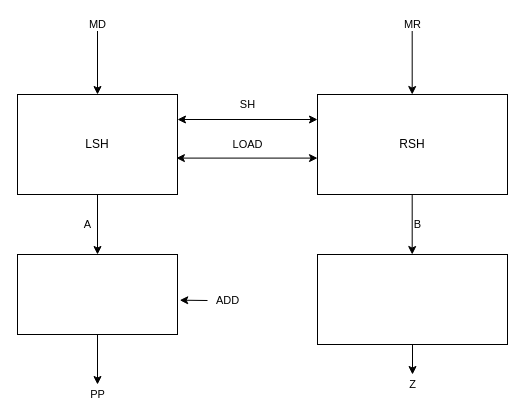
The diagram is 525 pixels wide and 418 high, and some of its shapes have lost their labels. The shapes that lost their labels are listed below. From the top down, each one's box as (x1, y1, x2, y2) in pixels, then its label:
(16, 254, 178, 334): ACC
(316, 254, 508, 344): COMP
